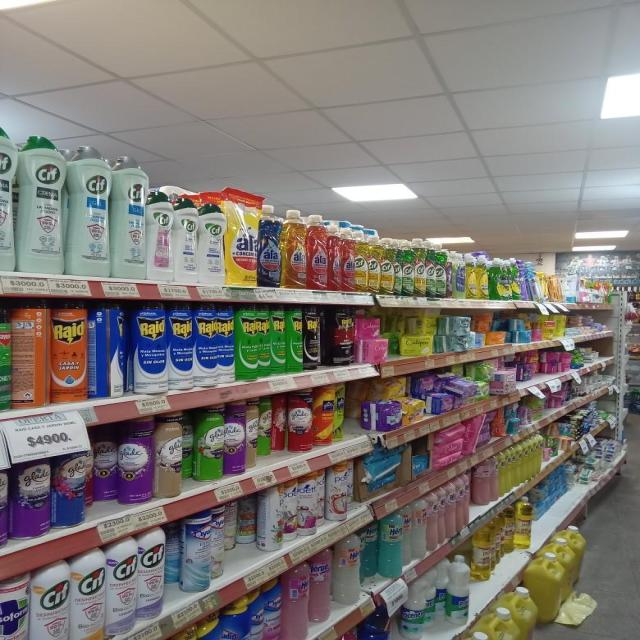ala_conc_amarillo: (282, 210, 306, 289), (455, 251, 466, 299)
ala_conc_azul: (258, 205, 280, 287)
ala_conc_rojo: (307, 214, 328, 291), (329, 219, 341, 291), (342, 222, 354, 292)
ala_crem_rosado: (472, 458, 490, 506), (428, 489, 441, 555), (445, 480, 458, 538), (458, 472, 470, 532), (438, 484, 446, 546)
cif_conc_bot_amarilla: (354, 229, 368, 292), (367, 233, 380, 294), (381, 236, 394, 295)
cif_conc_botella_verde: (433, 239, 447, 298), (401, 238, 414, 296), (414, 237, 425, 298), (426, 238, 436, 298), (394, 238, 404, 296)
heroe: (333, 534, 360, 608), (284, 563, 308, 640), (309, 549, 332, 625), (379, 511, 402, 577), (360, 521, 378, 581), (412, 497, 426, 561), (402, 504, 412, 564)
magistral_con_amarillo: (473, 251, 489, 300), (466, 252, 479, 299)
